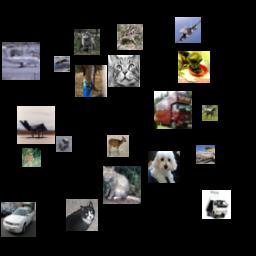airplane: (17, 106, 55, 144), (2, 42, 40, 80), (175, 17, 201, 43), (54, 56, 70, 72)
automobile: (1, 202, 36, 237), (56, 136, 72, 152)
bird: (75, 65, 107, 97)
cat: (103, 166, 141, 204), (108, 55, 140, 87), (66, 199, 98, 231), (74, 29, 100, 55)
deer: (107, 135, 129, 157), (22, 148, 41, 167)
dog: (178, 51, 210, 83), (148, 151, 180, 183)
frog: (117, 24, 143, 50)
ship: (196, 145, 215, 164)
truck: (154, 91, 192, 129), (202, 190, 231, 219)
